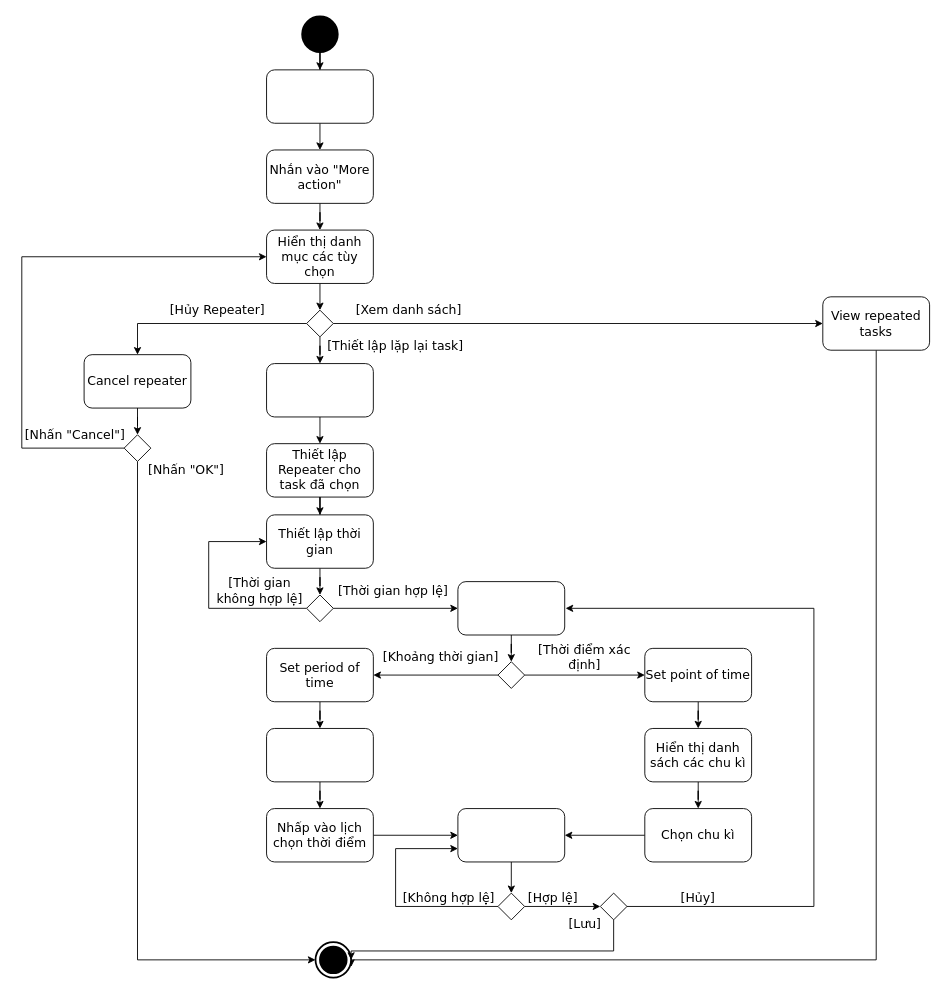
Some shapes in this 945 by 993 pixel diagram are drawn without their labels. The shapes that lost their labels are listed below. From the top down, each one's centre as x and y in pixels, then its label:
point (319, 96): Chọn task cần thao tác
point (319, 390): Chọn "Repeat this task"
point (511, 608): Hiển thị tùy chọn
point (319, 755): Hiển thị lịch
point (511, 835): Nhập số lần lặp
